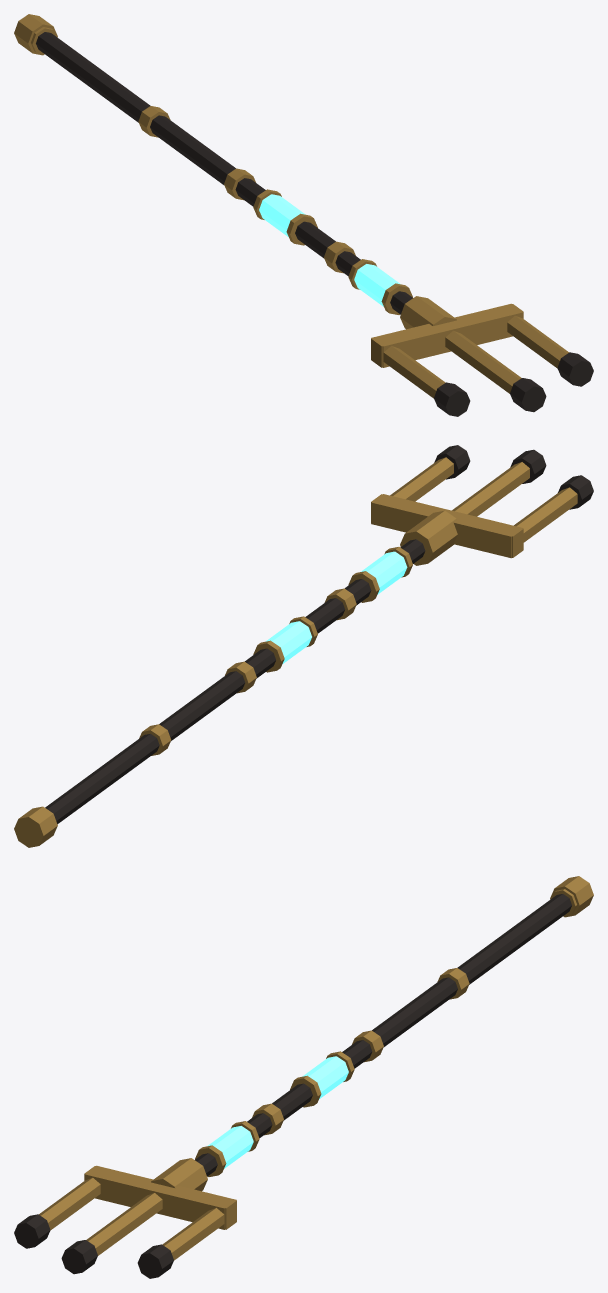
Rendered from trident-meshy.glb.
3 renders of one model, top to bottom at view 1: azimuth 30°, elevation 25°; view 2: azimuth 150°, elevation 25°; view 3: azimuth 330°, elevation 25°, orthographic.
Parts seen in each view (by area): view 1: trident; view 2: trident; view 3: trident.
Boxes of the visible parts, x1,y1,x2,y2 form: trident: [14, 14, 593, 416]; trident: [14, 445, 593, 847]; trident: [14, 876, 593, 1278].
Bounding box in the file's own units: 0.27 × 0.06 × 1.59.
